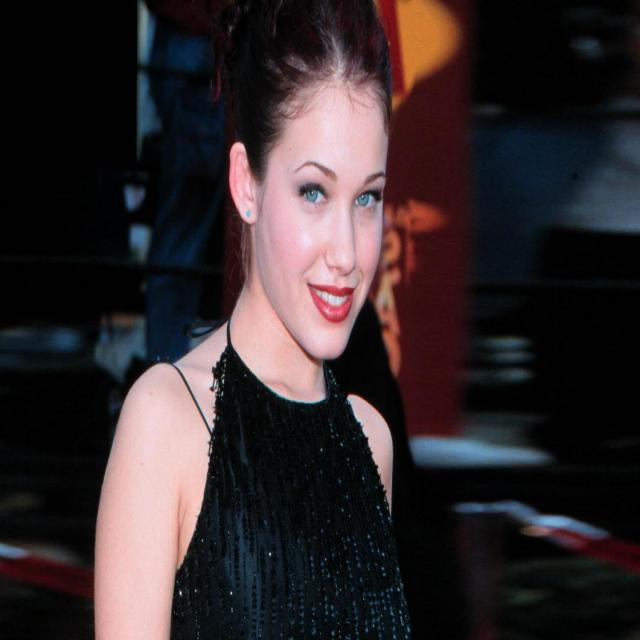no-earmuff: (228, 141, 258, 223)
